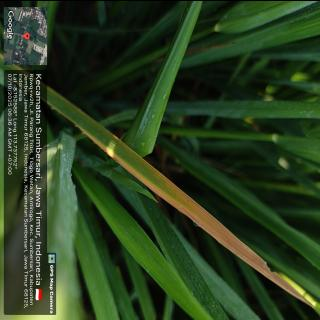Hawar-Daun: (92, 135, 306, 299)
